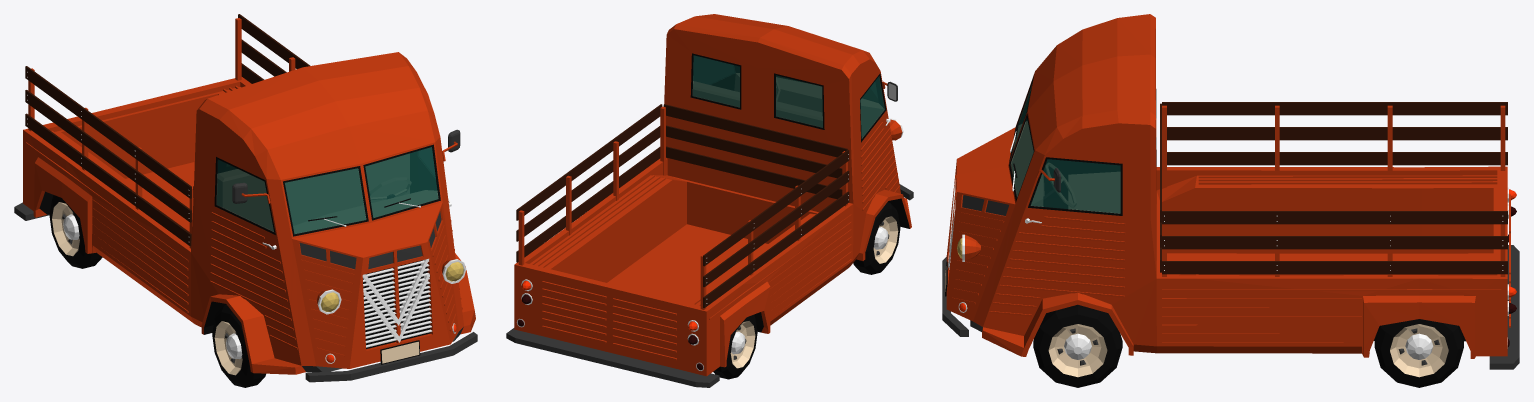
File: PickupVan_02.FBX
The picture shows the model from 3 angles, left to right: view 1: azimuth 30°, elevation 25°; view 2: azimuth 150°, elevation 25°; view 3: azimuth 270°, elevation 25°; orthographic projection. The views are drawn at different scales.
Visible parts, largest first — view 1: PickupVan_02, cage, interior, grill, wheel_f_r, wheel_b_r, bumper_f, licensePlate_f, headLights, lights, mirror_r; view 2: PickupVan_02, cage, interior, bumper_b, wheel_f_r, wheel_b_r, lights; view 3: PickupVan_02, cage, wheel_f_l, wheel_b_l, interior, bumper_b, bumper_f, lights.
Part boxes in pixels (<box>): PickupVan_02: <box>23,52,475,374</box>; cage: <box>25,14,310,248</box>; interior: <box>217,147,438,233</box>; grill: <box>362,258,432,347</box>; wheel_f_r: <box>212,305,265,387</box>; wheel_b_r: <box>49,195,102,268</box>; bumper_f: <box>305,332,477,382</box>; licensePlate_f: <box>380,340,420,364</box>; headLights: <box>320,262,463,311</box>; lights: <box>317,259,466,363</box>; mirror_r: <box>232,182,270,203</box>; PickupVan_02: <box>514,14,911,376</box>; cage: <box>516,104,849,309</box>; interior: <box>693,55,884,137</box>; bumper_b: <box>506,328,719,387</box>; wheel_f_r: <box>853,202,900,274</box>; wheel_b_r: <box>713,314,757,379</box>; lights: <box>516,118,903,370</box>; PickupVan_02: <box>946,14,1510,358</box>; cage: <box>1160,102,1507,276</box>; wheel_f_l: <box>1033,304,1122,387</box>; wheel_b_l: <box>1374,319,1463,387</box>; interior: <box>1011,90,1120,213</box>; bumper_b: <box>1489,245,1519,369</box>; bumper_f: <box>942,257,968,336</box>; lights: <box>958,187,1508,348</box>.
Size of the model in its own units: 28.58 by 31.58 by 58.87.
